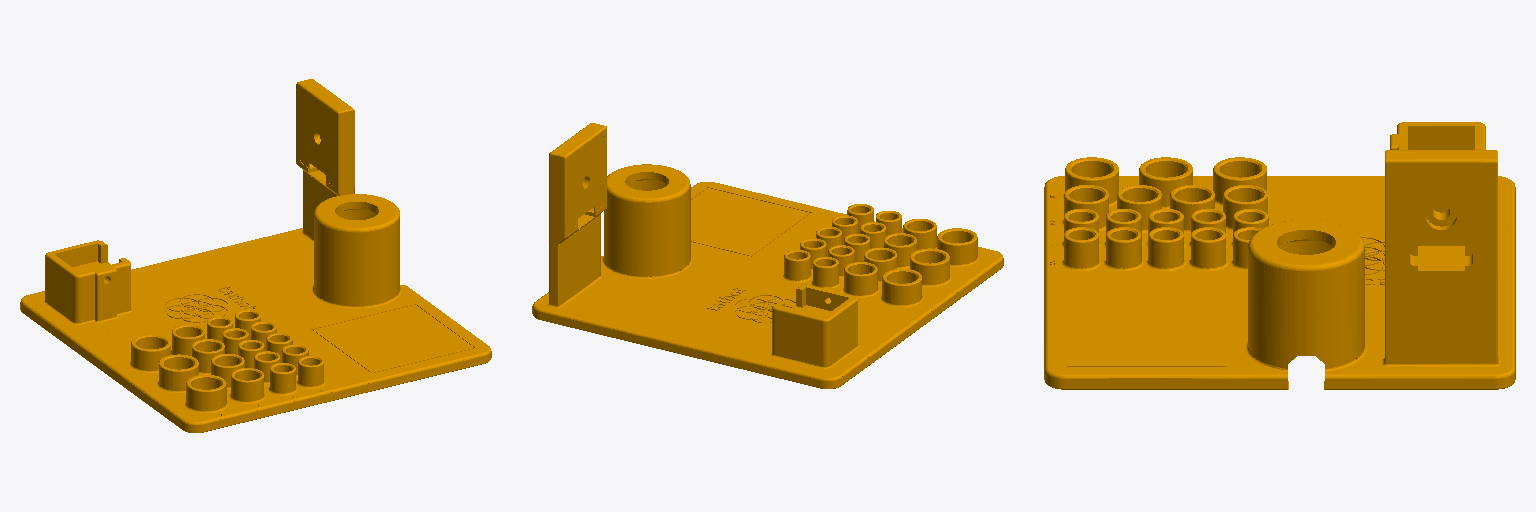
The robot description file, URDF, robot "tatbot_palette":
<?xml version="1.0"?>
<!-- Generated by cad/merged-palette-v9/build.py. Metres. Root is on the probe axis 55.6 mm under the ball
     centre, as on v11; +X from the probe toward the camera, +Y rearward. Cap frames are pocket floors. -->
<robot name="tatbot_palette" tag_pose_status="confirmed">
  <link name="palette_root">
    <visual><geometry><mesh filename="meshes/palette/merged_palette_v9.stl" scale="0.001 0.001 0.001"/></geometry></visual>
    <collision><geometry><mesh filename="meshes/palette/merged_palette_v9.stl" scale="0.001 0.001 0.001"/></geometry></collision>
  </link>
  <link name="palette_probe_ball"/>
  <joint name="palette_probe_ball_joint" type="fixed">
    <parent link="palette_root"/><child link="palette_probe_ball"/>
    <origin xyz="0.000000000 0.000000000 0.055600000" rpy="0.000000000 0.000000000 0.000000000"/>
  </joint>
  <link name="palette_camera"/>
  <joint name="palette_camera_joint" type="fixed">
    <parent link="palette_root"/><child link="palette_camera"/>
    <origin xyz="0.122000000 0.000000000 0.055600000" rpy="0.000000000 0.000000000 3.141592654"/>
  </joint>
  <link name="palette_estop"/>
  <joint name="palette_estop_joint" type="fixed">
    <parent link="palette_root"/><child link="palette_estop"/>
    <origin xyz="0.128000000 -0.051000000 0.037000000" rpy="0.000000000 -1.570796327 0.000000000"/>
  </joint>
  <link name="palette_tag"/>
  <joint name="palette_tag_joint" type="fixed">
    <parent link="palette_root"/><child link="palette_tag"/>
    <origin xyz="0.115320000 -0.112300000 -0.007000000" rpy="0.000000000 0.000000000 0.025778513"/>
  </joint>
  <link name="inkcap_large_1"/>
  <joint name="inkcap_large_1_joint" type="fixed">
    <parent link="palette_root"/><child link="inkcap_large_1"/>
    <origin xyz="-0.007000000 -0.132000000 -0.007000000" rpy="0.000000000 0.000000000 0.000000000"/>
  </joint>
  <link name="inkcap_large_2"/>
  <joint name="inkcap_large_2_joint" type="fixed">
    <parent link="palette_root"/><child link="inkcap_large_2"/>
    <origin xyz="-0.007000000 -0.104000000 -0.007000000" rpy="0.000000000 0.000000000 0.000000000"/>
  </joint>
  <link name="inkcap_large_3"/>
  <joint name="inkcap_large_3_joint" type="fixed">
    <parent link="palette_root"/><child link="inkcap_large_3"/>
    <origin xyz="-0.007000000 -0.076000000 -0.007000000" rpy="0.000000000 0.000000000 0.000000000"/>
  </joint>
  <link name="inkcap_medium_1"/>
  <joint name="inkcap_medium_1_joint" type="fixed">
    <parent link="palette_root"/><child link="inkcap_medium_1"/>
    <origin xyz="0.016000000 -0.134000000 -0.004000000" rpy="0.000000000 0.000000000 0.000000000"/>
  </joint>
  <link name="inkcap_medium_2"/>
  <joint name="inkcap_medium_2_joint" type="fixed">
    <parent link="palette_root"/><child link="inkcap_medium_2"/>
    <origin xyz="0.016000000 -0.114000000 -0.004000000" rpy="0.000000000 0.000000000 0.000000000"/>
  </joint>
  <link name="inkcap_medium_3"/>
  <joint name="inkcap_medium_3_joint" type="fixed">
    <parent link="palette_root"/><child link="inkcap_medium_3"/>
    <origin xyz="0.016000000 -0.094000000 -0.004000000" rpy="0.000000000 0.000000000 0.000000000"/>
  </joint>
  <link name="inkcap_medium_4"/>
  <joint name="inkcap_medium_4_joint" type="fixed">
    <parent link="palette_root"/><child link="inkcap_medium_4"/>
    <origin xyz="0.016000000 -0.074000000 -0.004000000" rpy="0.000000000 0.000000000 0.000000000"/>
  </joint>
  <link name="inkcap_small_1"/>
  <joint name="inkcap_small_1_joint" type="fixed">
    <parent link="palette_root"/><child link="inkcap_small_1"/>
    <origin xyz="0.035500000 -0.136000000 -0.004000000" rpy="0.000000000 0.000000000 0.000000000"/>
  </joint>
  <link name="inkcap_small_2"/>
  <joint name="inkcap_small_2_joint" type="fixed">
    <parent link="palette_root"/><child link="inkcap_small_2"/>
    <origin xyz="0.035500000 -0.120000000 -0.004000000" rpy="0.000000000 0.000000000 0.000000000"/>
  </joint>
  <link name="inkcap_small_3"/>
  <joint name="inkcap_small_3_joint" type="fixed">
    <parent link="palette_root"/><child link="inkcap_small_3"/>
    <origin xyz="0.035500000 -0.104000000 -0.004000000" rpy="0.000000000 0.000000000 0.000000000"/>
  </joint>
  <link name="inkcap_small_4"/>
  <joint name="inkcap_small_4_joint" type="fixed">
    <parent link="palette_root"/><child link="inkcap_small_4"/>
    <origin xyz="0.035500000 -0.088000000 -0.004000000" rpy="0.000000000 0.000000000 0.000000000"/>
  </joint>
  <link name="inkcap_small_5"/>
  <joint name="inkcap_small_5_joint" type="fixed">
    <parent link="palette_root"/><child link="inkcap_small_5"/>
    <origin xyz="0.035500000 -0.072000000 -0.004000000" rpy="0.000000000 0.000000000 0.000000000"/>
  </joint>
  <link name="inkcap_small_6"/>
  <joint name="inkcap_small_6_joint" type="fixed">
    <parent link="palette_root"/><child link="inkcap_small_6"/>
    <origin xyz="0.052000000 -0.136000000 -0.004000000" rpy="0.000000000 0.000000000 0.000000000"/>
  </joint>
  <link name="inkcap_small_7"/>
  <joint name="inkcap_small_7_joint" type="fixed">
    <parent link="palette_root"/><child link="inkcap_small_7"/>
    <origin xyz="0.052000000 -0.120000000 -0.004000000" rpy="0.000000000 0.000000000 0.000000000"/>
  </joint>
  <link name="inkcap_small_8"/>
  <joint name="inkcap_small_8_joint" type="fixed">
    <parent link="palette_root"/><child link="inkcap_small_8"/>
    <origin xyz="0.052000000 -0.104000000 -0.004000000" rpy="0.000000000 0.000000000 0.000000000"/>
  </joint>
  <link name="inkcap_small_9"/>
  <joint name="inkcap_small_9_joint" type="fixed">
    <parent link="palette_root"/><child link="inkcap_small_9"/>
    <origin xyz="0.052000000 -0.088000000 -0.004000000" rpy="0.000000000 0.000000000 0.000000000"/>
  </joint>
  <link name="inkcap_small_10"/>
  <joint name="inkcap_small_10_joint" type="fixed">
    <parent link="palette_root"/><child link="inkcap_small_10"/>
    <origin xyz="0.052000000 -0.072000000 -0.004000000" rpy="0.000000000 0.000000000 0.000000000"/>
  </joint>
</robot>

--- What the picture shows (computed from the rendered views, not written in the file) ---
3 views of the same robot in one strip: view 1: azimuth 30°, elevation 25°; view 2: azimuth 150°, elevation 25°; view 3: azimuth 270°, elevation 25° (orthographic).
Model tatbot_palette with 22 links and 21 joints (21 fixed), rooted at palette_root, posed every joint at zero.
Links seen in each view (by area): view 1: palette_root; view 2: palette_root; view 3: palette_root.
Boxes of the visible links, <box> form: palette_root: <box>20,79,491,432</box>; palette_root: <box>532,123,1003,388</box>; palette_root: <box>1044,122,1515,389</box>.
Bounding box of the posed robot: 0.18 × 0.178 × 0.0916 m (x, y, z).
1 mesh visuals loaded from 1 distinct referenced files (1 binary STL).
